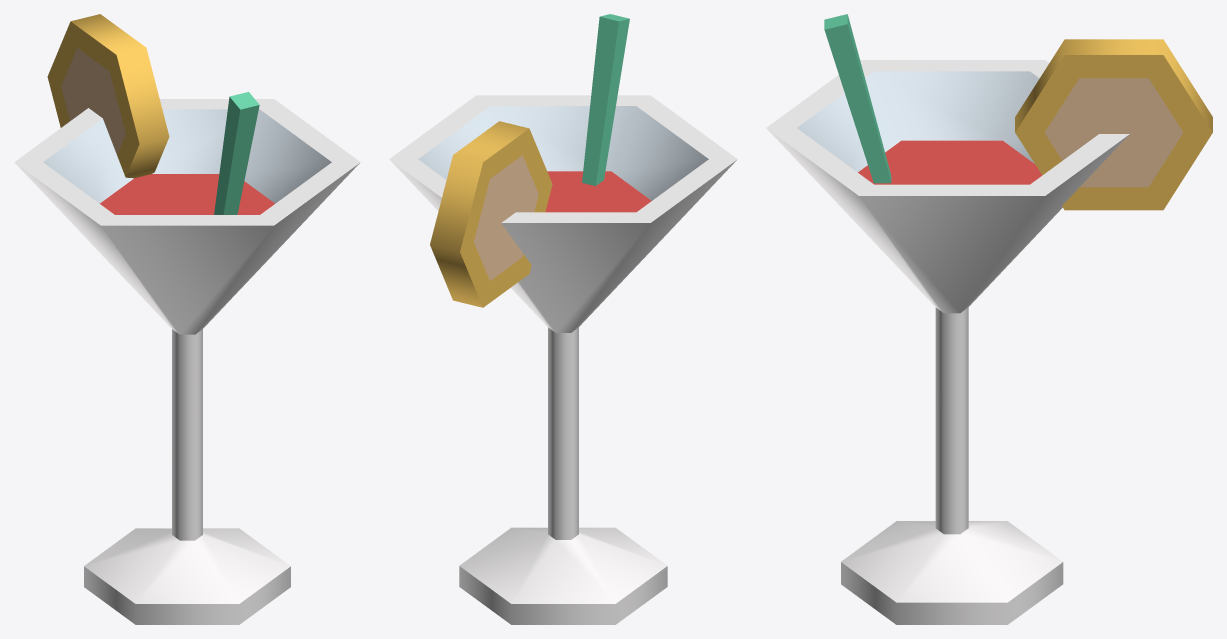
The model's file is cocktail.glb.
3 renders of one model, left to right at view 1: azimuth 30°, elevation 25°; view 2: azimuth 150°, elevation 25°; view 3: azimuth 270°, elevation 25°, orthographic. The views are drawn at different scales.
Visible parts, largest first — view 1: cocktail; view 2: cocktail; view 3: cocktail.
Boxes of the visible parts, x1,y1,x2,y2 form: cocktail: (14, 14, 360, 624); cocktail: (389, 14, 737, 624); cocktail: (766, 14, 1212, 624).
Bounding box in the file's own units: 0.2607 × 0.5059 × 0.3615.
Materials: 1 (1 with a texture image).
